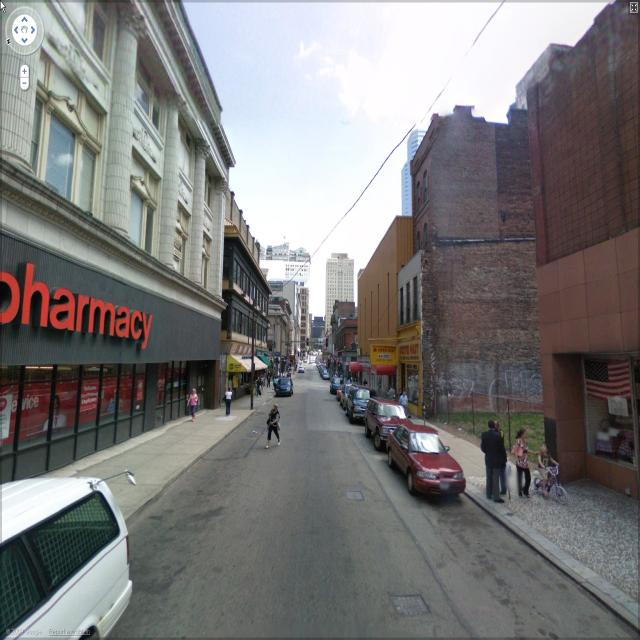b_1: (0, 4, 216, 387), (530, 42, 640, 449), (426, 124, 531, 396), (350, 226, 412, 385), (220, 220, 274, 390), (398, 257, 430, 402), (393, 121, 435, 226), (316, 250, 358, 328)
